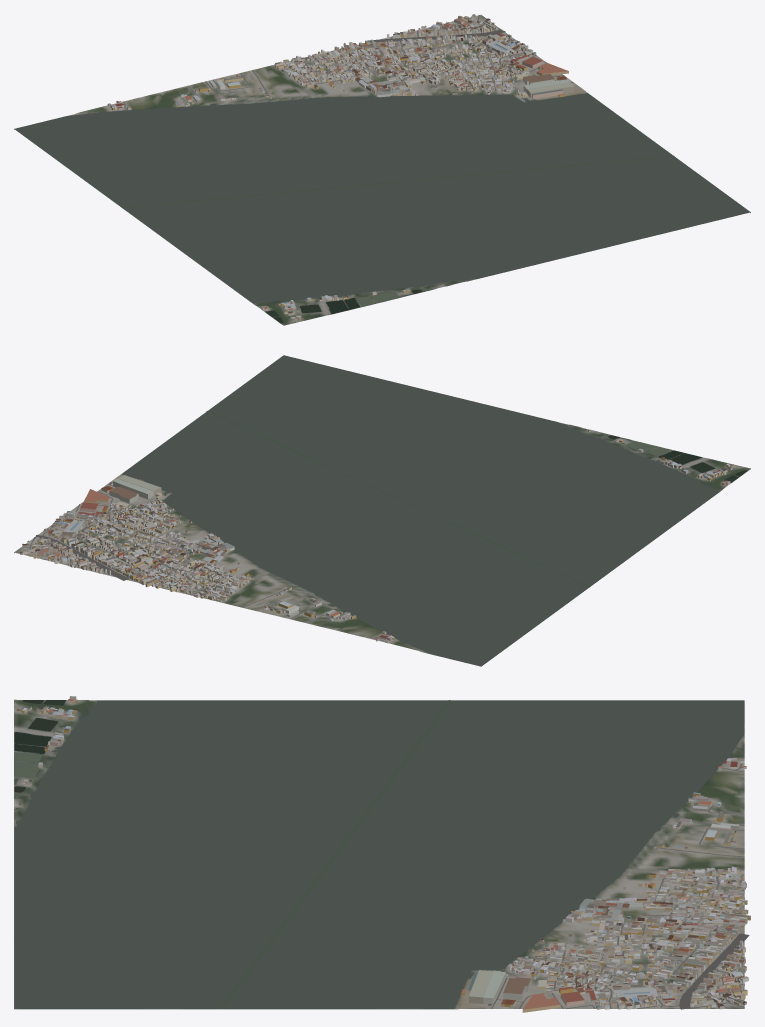
3 renders of one model, top to bottom at view 1: azimuth 30°, elevation 25°; view 2: azimuth 150°, elevation 25°; view 3: azimuth 270°, elevation 25°, orthographic. The views are drawn at different scales.
Parts seen in each view (by area): view 1: water, buildings, ground, roads; view 2: water, buildings, ground, roads; view 3: water, buildings, ground, roads.
Boxes of the visible parts, x1,y1,x2,y2 form: water: [15, 93, 749, 323]; buildings: [107, 14, 574, 320]; ground: [14, 14, 750, 325]; roads: [115, 15, 574, 109]; water: [122, 355, 746, 665]; buildings: [19, 430, 734, 643]; ground: [14, 356, 750, 666]; roads: [16, 484, 385, 641]; water: [14, 700, 743, 1009]; buildings: [16, 696, 750, 1012]; ground: [14, 699, 744, 1009]; roads: [491, 763, 749, 1009].
Size of the model in its own units: 1419 by 18.4 by 1413.
